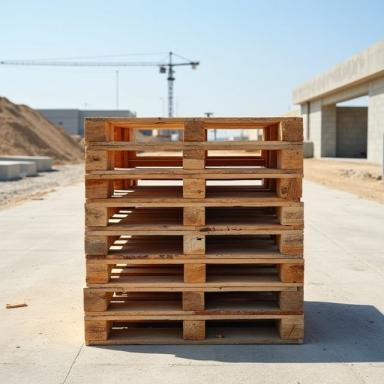pallet: (84, 315, 304, 346), (84, 230, 304, 260), (83, 287, 304, 316), (84, 173, 304, 202), (84, 202, 304, 231), (86, 259, 305, 288), (85, 145, 303, 174), (84, 117, 304, 145), (106, 292, 182, 311), (206, 235, 274, 256), (205, 128, 263, 141), (205, 292, 276, 301), (206, 319, 277, 328), (206, 207, 276, 216), (134, 129, 184, 141), (112, 320, 183, 328), (206, 178, 262, 185), (207, 149, 261, 156), (132, 179, 183, 186), (113, 264, 184, 269), (117, 235, 183, 240), (206, 264, 276, 268), (137, 151, 183, 157), (111, 273, 183, 276)
